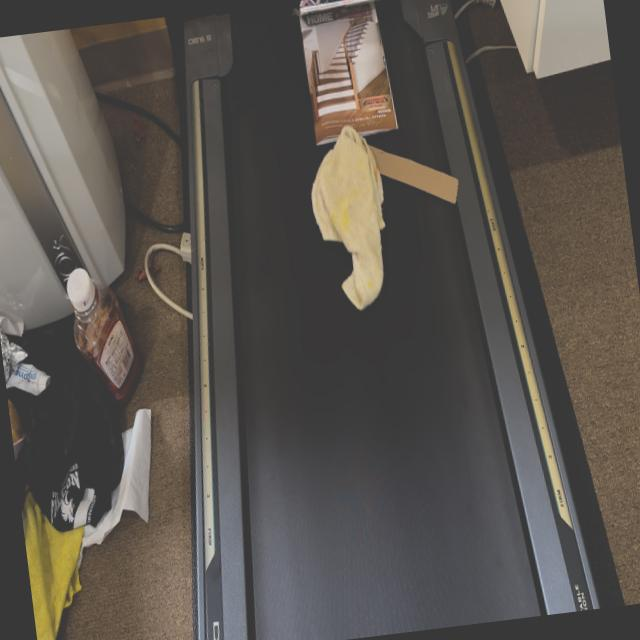Recycle: (334, 110, 463, 217)
Trash: (306, 127, 403, 323), (292, 0, 421, 145)
